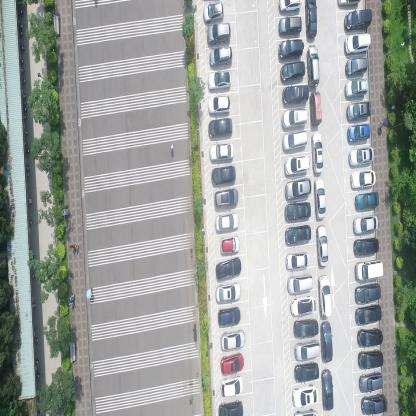car: (343, 7, 372, 32), (292, 382, 319, 408), (343, 31, 370, 56), (355, 257, 383, 281), (220, 327, 246, 352), (215, 256, 242, 280), (318, 272, 332, 318), (315, 223, 329, 268), (294, 337, 320, 361), (283, 153, 310, 176), (284, 177, 311, 200), (215, 281, 242, 304), (354, 282, 382, 304), (360, 394, 388, 416), (220, 351, 244, 376), (278, 37, 304, 60), (281, 84, 308, 106), (350, 168, 377, 190), (289, 295, 316, 317), (284, 224, 312, 245), (307, 43, 320, 88), (321, 367, 334, 412), (206, 22, 231, 45), (280, 60, 306, 82), (346, 100, 372, 122), (348, 145, 374, 167), (282, 130, 308, 152), (287, 274, 313, 296), (293, 360, 319, 382), (357, 349, 384, 370), (284, 201, 311, 222), (210, 164, 237, 185), (320, 320, 333, 363), (358, 370, 382, 393), (220, 375, 244, 398), (208, 116, 233, 138), (356, 304, 382, 325), (213, 187, 239, 208), (311, 129, 323, 174), (344, 55, 367, 78), (354, 190, 378, 212), (314, 176, 326, 220), (353, 214, 378, 235), (282, 108, 307, 129), (207, 69, 232, 90), (357, 327, 383, 347), (304, 0, 317, 40), (344, 77, 367, 99), (209, 45, 232, 67), (347, 122, 371, 143), (278, 15, 302, 36), (207, 94, 231, 115), (218, 305, 242, 326), (353, 236, 378, 256), (285, 251, 310, 271), (293, 318, 318, 338), (202, 1, 224, 23), (215, 212, 239, 232), (209, 142, 234, 161), (310, 90, 322, 127), (219, 235, 240, 255), (218, 400, 244, 415), (278, 0, 302, 14), (336, 0, 360, 8)
